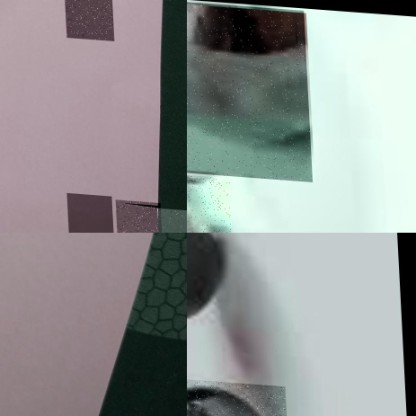ironball: (186, 0, 310, 178), (186, 376, 285, 415), (64, 188, 111, 232), (112, 194, 159, 232), (64, 0, 113, 35), (154, 202, 186, 232)
